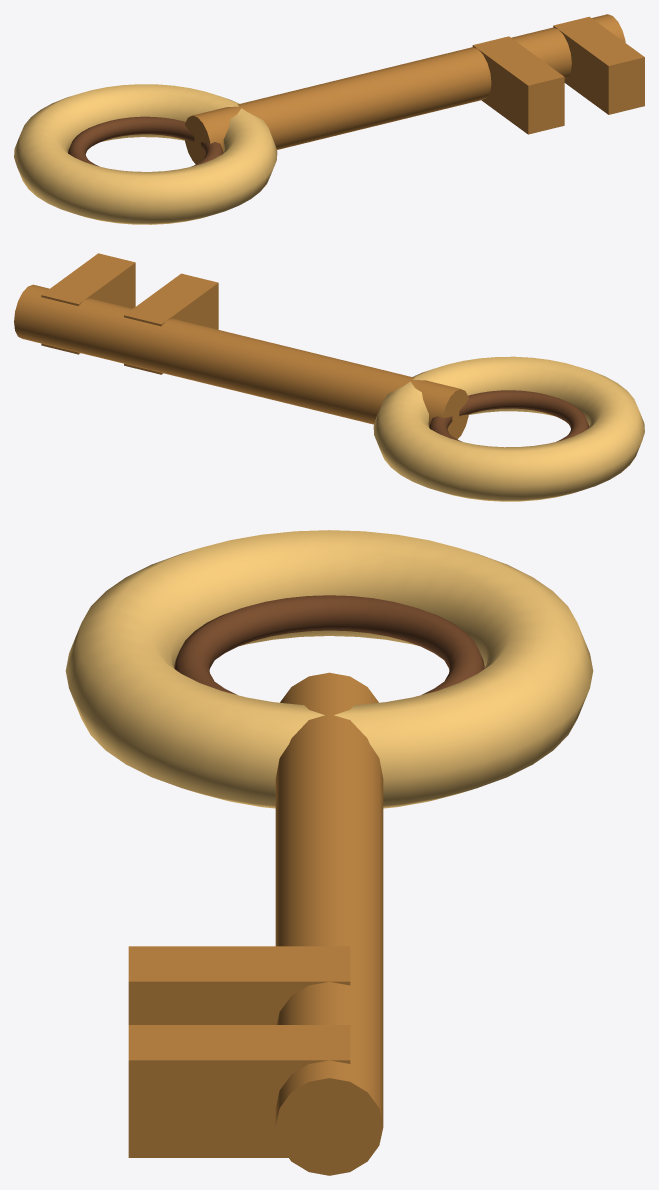
File: mia-key.glb
3 views of the same model, one above another, from view 1: azimuth 30°, elevation 25°; view 2: azimuth 150°, elevation 25°; view 3: azimuth 270°, elevation 25° (orthographic). The views are drawn at different scales.
Visible parts, largest first — view 1: Body_brass, Body_trim, Body_rust; view 2: Body_brass, Body_trim, Body_rust; view 3: Body_trim, Body_brass, Body_rust.
Boxes of the visible parts, <box> form: Body_brass: <box>185,14,644,163</box>; Body_trim: <box>14,84,277,224</box>; Body_rust: <box>68,116,223,166</box>; Body_brass: <box>14,253,468,439</box>; Body_trim: <box>373,356,644,501</box>; Body_rust: <box>429,390,589,441</box>; Body_trim: <box>65,530,593,808</box>; Body_brass: <box>128,672,383,1175</box>; Body_rust: <box>174,595,484,694</box>.
Size of the model in its own units: 0.224 by 0.018 by 0.088.
